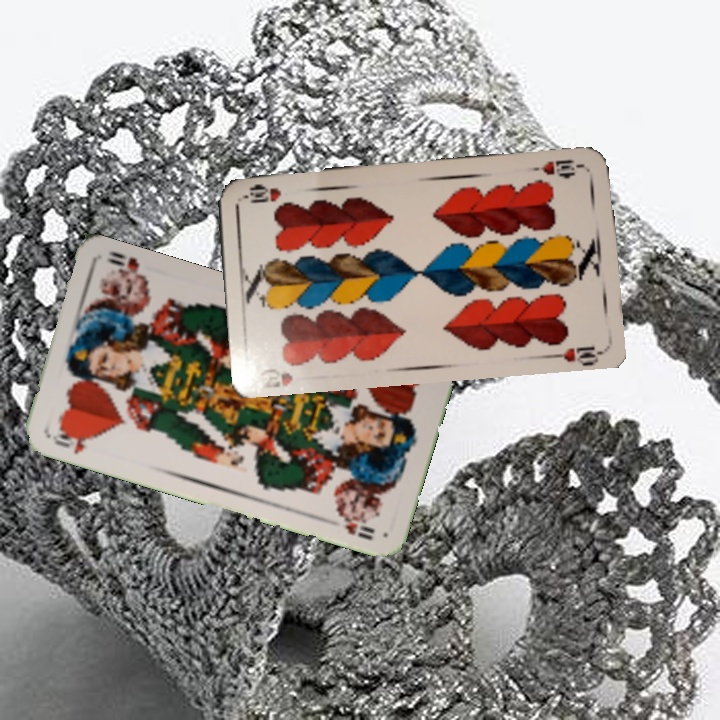H10: (537, 155, 586, 180), (254, 364, 295, 391)
HO: (45, 424, 101, 457)
